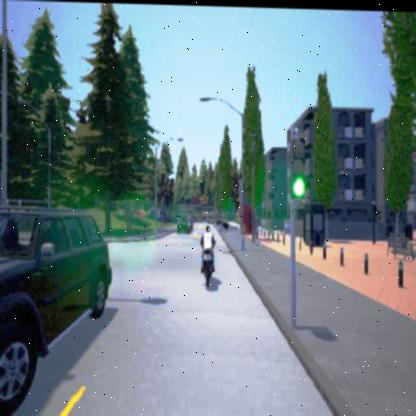motobike: (200, 221, 214, 287)
vehicle: (0, 198, 111, 416), (176, 213, 192, 232)
